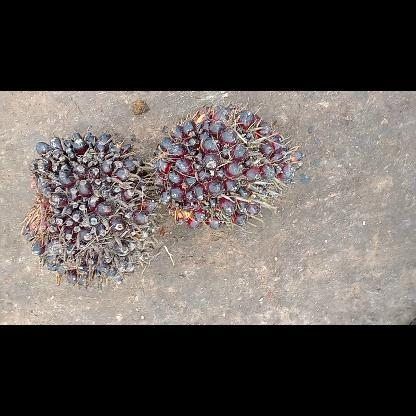TBS mentah: (19, 138, 158, 289), (158, 105, 304, 227)
